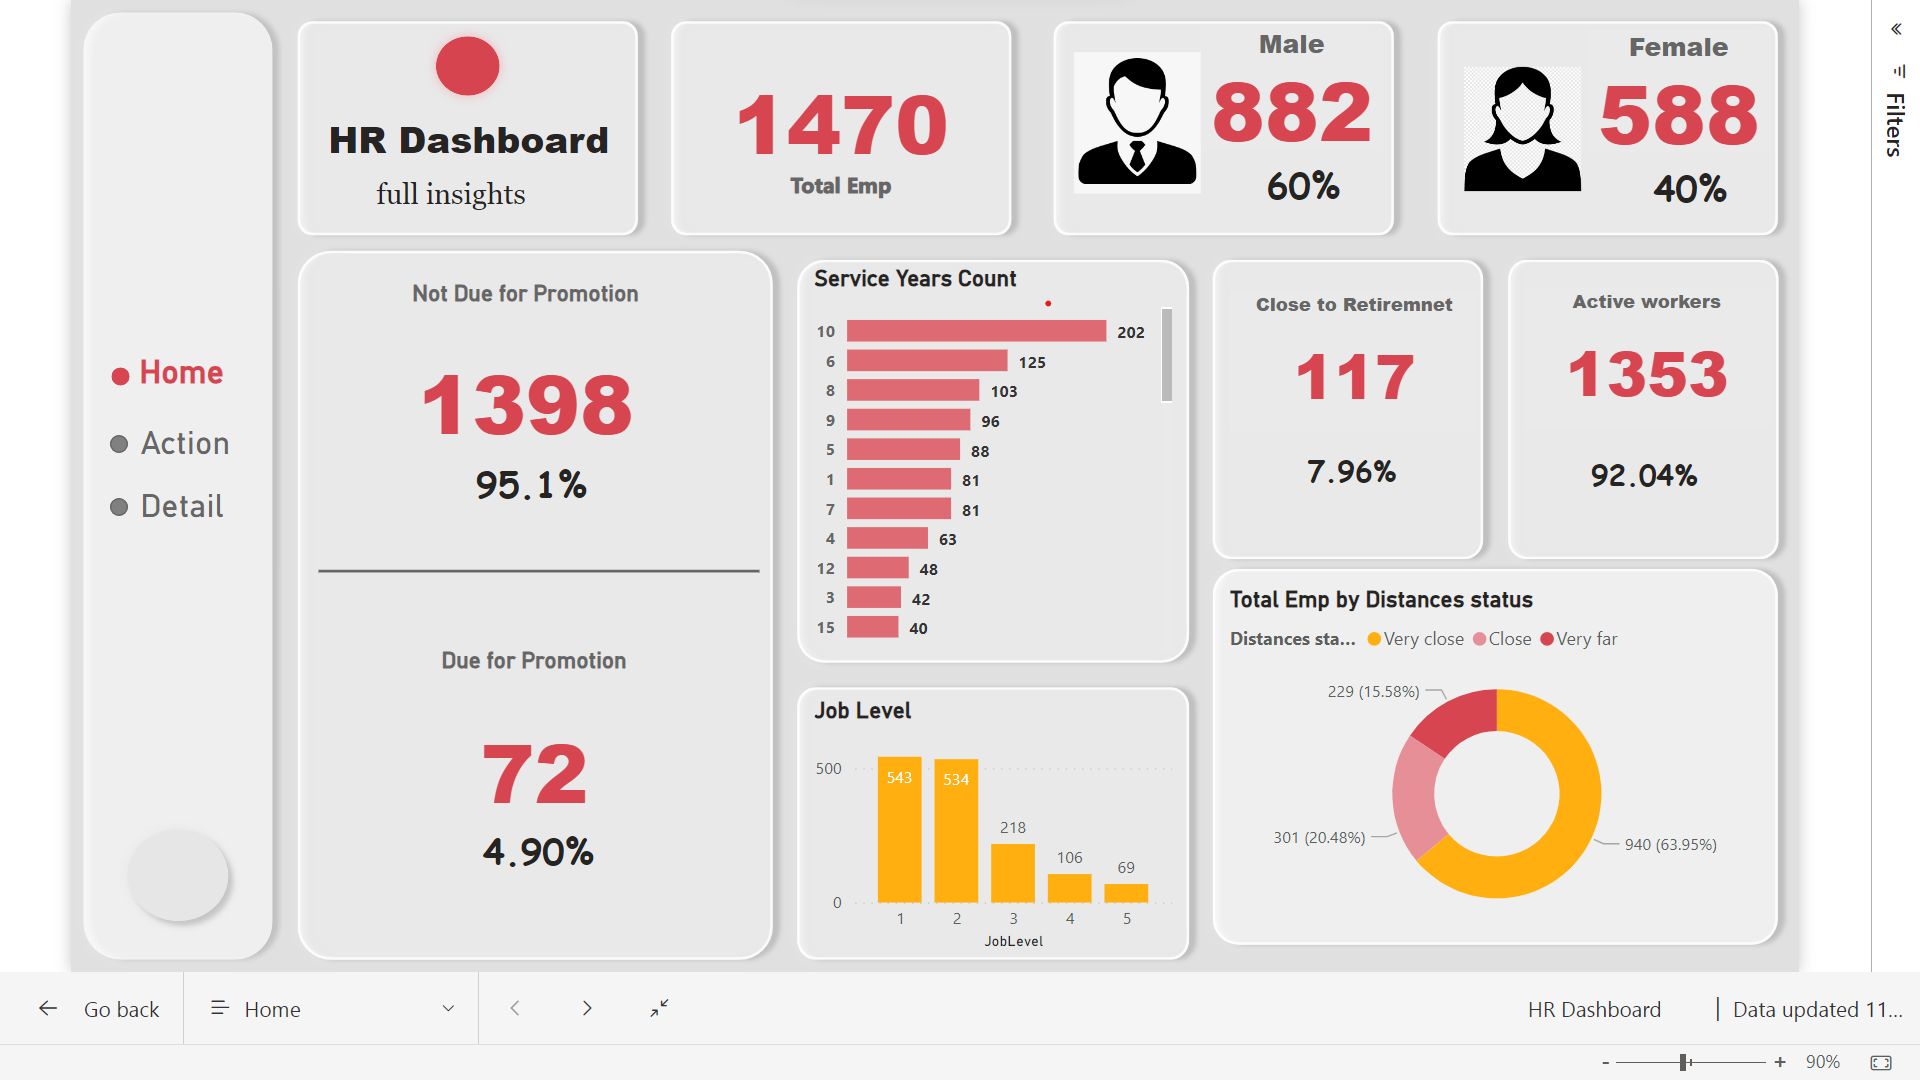

Layout of this report page (visuals, bound fields, positions):
{"tool":"powerbi","page":{"name":"Home","canvas":[1280,720],"ordinal":0},"visuals":[{"type":"shape","box":[0,0,158.3,720],"z":0},{"type":"shape","box":[30,603.3,98.3,90],"z":1000},{"type":"shape","box":[158.3,6.7,270,176.7],"z":2000},{"type":"shape","box":[435,6.7,270,176.7],"z":3000},{"type":"shape","box":[718.3,6.7,270,176.7],"z":4000},{"type":"shape","box":[1003.3,6.7,270,176.7],"z":5000},{"type":"shape","box":[158.3,176.7,370,543.3],"z":6000},{"type":"shape","box":[836.7,411.7,436.7,296.7],"z":7000},{"type":"shape","box":[1055,183.3,218.3,240],"z":8000},{"type":"shape","box":[836.7,183.3,218.3,240],"z":9000},{"type":"shape","box":[528.3,183.3,308.3,316.7],"z":10000},{"type":"shape","box":[528.3,500,308.3,220],"z":11000},{"type":"textbox","box":[185,78.3,226.7,98.3],"z":12000},{"type":"shape","box":[261.7,18.3,63.3,60],"z":13000},{"type":"card","fields":{"Values":["Measures (2).Total Employees"]},"box":[456.7,18.3,226.7,158.3],"z":14000},{"type":"card","title":"Male","fields":{"Values":["Measures (2).Male"]},"box":[836.7,18.3,135,91.7],"z":15000},{"type":"card","fields":{"Values":["Measures (2).Male %"]},"box":[873.3,110,78.3,55],"z":16000},{"type":"card","title":"Female","fields":{"Values":["Measures (2).Female"]},"box":[1123.4,20.9,135,91.7],"z":17000},{"type":"card","fields":{"Values":["Measures (2).%Female"]},"box":[1160.1,112.5,78.3,55],"z":18000},{"type":"image","box":[1026.7,41.7,96.7,106.7],"z":19000},{"type":"image","box":[725,33.3,128.3,115],"z":20000},{"type":"shape","box":[28.3,321.7,13.3,13.3],"z":21000},{"type":"shape","box":[28.3,368.3,13.3,13.3],"z":22000},{"type":"shape","box":[28.3,368.3,13.3,13.3],"z":23000},{"type":"shape","box":[30,271.7,13.3,13.3],"z":24000},{"type":"clusteredBarChart","title":"Service Years Count","fields":{"Category":["HR Analytics Data.TotalWorkingYears"],"Y":["Measures (2).Total Employees"]},"box":[545,195,275,291.7],"z":25000},{"type":"columnChart","title":"Job Level","fields":{"Category":["HR Analytics Data.JobLevel"],"Y":["Measures (2).Total Employees"]},"box":[545,515,275,191.7],"z":26000},{"type":"card","title":"Not Due for Promotion","fields":{"Values":["Measures (2).Not due"]},"box":[223.3,206.7,226.7,158.3],"z":27000},{"type":"card","fields":{"Values":["Measures (2).not due%"]},"box":[281.7,336.7,116.7,45],"z":28000},{"type":"card","title":"Due for Promotion","fields":{"Values":["Measures (2).Due for promotion"]},"box":[215,478.3,255,160],"z":29000},{"type":"card","fields":{"Values":["Measures (2).Due for promotion %"]},"box":[286.7,603.3,118.3,55],"z":30000},{"type":"shape","box":[183.3,411.7,326.7,21.7],"z":31000},{"type":"card","fields":{"Values":["Measures (2).% Active workers"]},"box":[1110,321.7,110,61.7],"z":32000},{"type":"card","title":"Active workers","fields":{"Values":["Measures (2).Active workers"]},"box":[1075,213.3,183.3,103.3],"z":33000},{"type":"card","fields":{"Values":["Measures (2).% Due for retirment"]},"box":[893.4,318.6,110,61.7],"z":34000},{"type":"card","title":"Close to Retiremnet","fields":{"Values":["Measures (2).Retirement"]},"box":[858.4,215.3,183.3,103.3],"z":35000},{"type":"donutChart","fields":{"Category":["HR Analytics Data.Distances status"],"Y":["Measures (2).Total Emp"]},"box":[853.3,433.3,405,260],"z":36000},{"type":"actionButton","title":"Detail","box":[11.7,360,140,40],"z":37000},{"type":"actionButton","title":"Action","box":[15,313.3,138.3,58.3],"z":38000},{"type":"actionButton","title":"Home","box":[12.3,261.6,139.8,54.1],"z":39000}]}

Visuals, with their boxes on the page's 1280x720 design canvas (x1, y1, x2, y2). These are canvas units, not pixel positions in the 1920x1080 screenshot, which may show the page scaled, cropped or inside an application window:
shape: locate(0, 0, 158, 720)
shape: locate(30, 603, 128, 693)
shape: locate(158, 7, 428, 183)
shape: locate(435, 7, 705, 183)
shape: locate(718, 7, 988, 183)
shape: locate(1003, 7, 1273, 183)
shape: locate(158, 177, 528, 720)
shape: locate(837, 412, 1273, 708)
shape: locate(1055, 183, 1273, 423)
shape: locate(837, 183, 1055, 423)
shape: locate(528, 183, 837, 500)
shape: locate(528, 500, 837, 720)
textbox: locate(185, 78, 412, 177)
shape: locate(262, 18, 325, 78)
card - Measures (2).Total Employees: locate(457, 18, 683, 177)
"Male" card: locate(837, 18, 972, 110)
card - Measures (2).Male %: locate(873, 110, 952, 165)
"Female" card: locate(1123, 21, 1258, 113)
card - Measures (2).%Female: locate(1160, 112, 1238, 168)
image: locate(1027, 42, 1123, 148)
image: locate(725, 33, 853, 148)
shape: locate(28, 322, 42, 335)
shape: locate(28, 368, 42, 382)
shape: locate(28, 368, 42, 382)
shape: locate(30, 272, 43, 285)
"Service Years Count" clusteredBarChart: locate(545, 195, 820, 487)
"Job Level" columnChart: locate(545, 515, 820, 707)
"Not Due for Promotion" card: locate(223, 207, 450, 365)
card - Measures (2).not due%: locate(282, 337, 398, 382)
"Due for Promotion" card: locate(215, 478, 470, 638)
card - Measures (2).Due for promotion %: locate(287, 603, 405, 658)
shape: locate(183, 412, 510, 433)
card - Measures (2).% Active workers: locate(1110, 322, 1220, 383)
"Active workers" card: locate(1075, 213, 1258, 317)
card - Measures (2).% Due for retirment: locate(893, 319, 1003, 380)
"Close to Retiremnet" card: locate(858, 215, 1042, 319)
donutChart - HR Analytics Data.Distances status x Measures (2).Total Emp: locate(853, 433, 1258, 693)
"Detail" actionButton: locate(12, 360, 152, 400)
"Action" actionButton: locate(15, 313, 153, 372)
"Home" actionButton: locate(12, 262, 152, 316)
